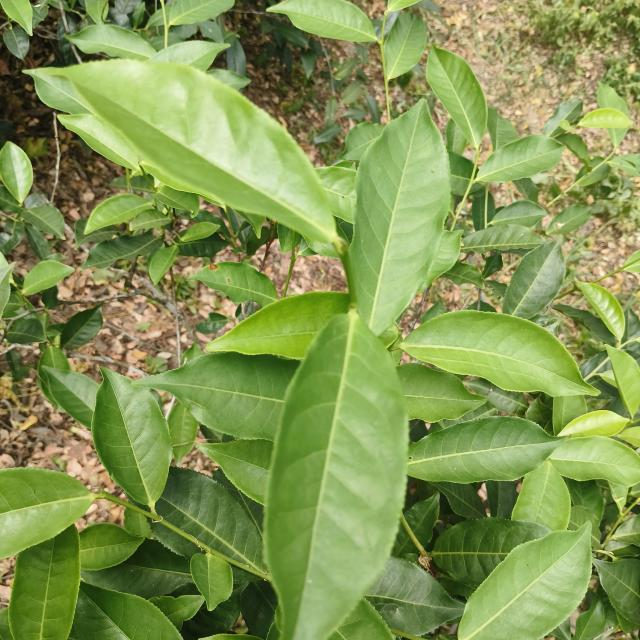Leaf: (37, 59, 338, 242), (265, 310, 408, 640), (349, 100, 450, 334), (398, 310, 598, 396), (458, 523, 592, 640), (133, 352, 299, 440), (151, 466, 266, 572), (91, 368, 171, 510), (408, 417, 565, 483), (206, 291, 349, 359), (0, 468, 93, 559), (8, 524, 80, 640), (432, 517, 551, 587), (366, 557, 465, 636), (426, 45, 487, 149), (74, 582, 181, 640), (396, 364, 487, 423), (197, 439, 273, 505), (503, 240, 565, 319), (549, 436, 640, 488), (267, 0, 376, 42), (59, 114, 139, 171), (477, 135, 564, 182), (512, 461, 571, 530), (190, 261, 277, 307), (45, 367, 99, 427), (79, 523, 145, 571), (68, 25, 156, 60), (82, 231, 162, 269), (594, 559, 640, 625), (576, 282, 625, 342), (28, 69, 92, 114), (384, 13, 427, 79), (85, 194, 153, 234), (190, 552, 233, 611), (148, 40, 229, 71), (607, 346, 640, 418), (463, 225, 544, 253), (403, 492, 440, 548), (167, 401, 199, 465), (0, 142, 33, 204), (431, 482, 486, 519), (38, 346, 71, 406), (149, 595, 204, 631), (60, 304, 103, 349), (22, 260, 74, 296), (558, 410, 627, 437), (341, 122, 386, 160), (566, 479, 604, 522), (169, 0, 234, 25), (489, 200, 546, 227), (543, 99, 583, 137), (573, 594, 605, 640), (155, 185, 199, 218), (22, 205, 64, 239), (553, 395, 587, 435), (546, 204, 591, 234), (487, 107, 518, 150), (148, 244, 179, 284), (485, 481, 517, 519), (0, 0, 33, 36), (597, 82, 628, 120), (178, 234, 227, 258), (6, 315, 46, 344), (442, 262, 484, 289), (578, 108, 631, 129), (448, 152, 473, 196), (556, 133, 590, 164), (576, 156, 611, 186), (225, 33, 246, 76), (130, 208, 171, 230), (3, 26, 29, 60), (123, 509, 151, 538), (392, 522, 415, 557), (26, 226, 50, 259), (1, 221, 25, 254), (180, 222, 219, 242), (276, 24, 307, 48), (277, 223, 300, 253), (513, 178, 538, 203), (313, 122, 341, 144), (85, 0, 109, 25), (199, 18, 224, 42), (340, 82, 362, 104), (301, 49, 317, 78), (365, 93, 380, 123), (607, 127, 629, 147)
